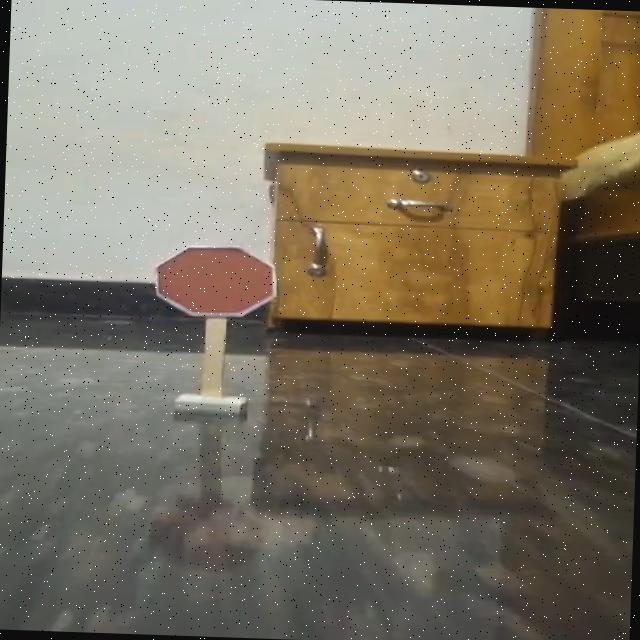Stop: (134, 234, 289, 324)
